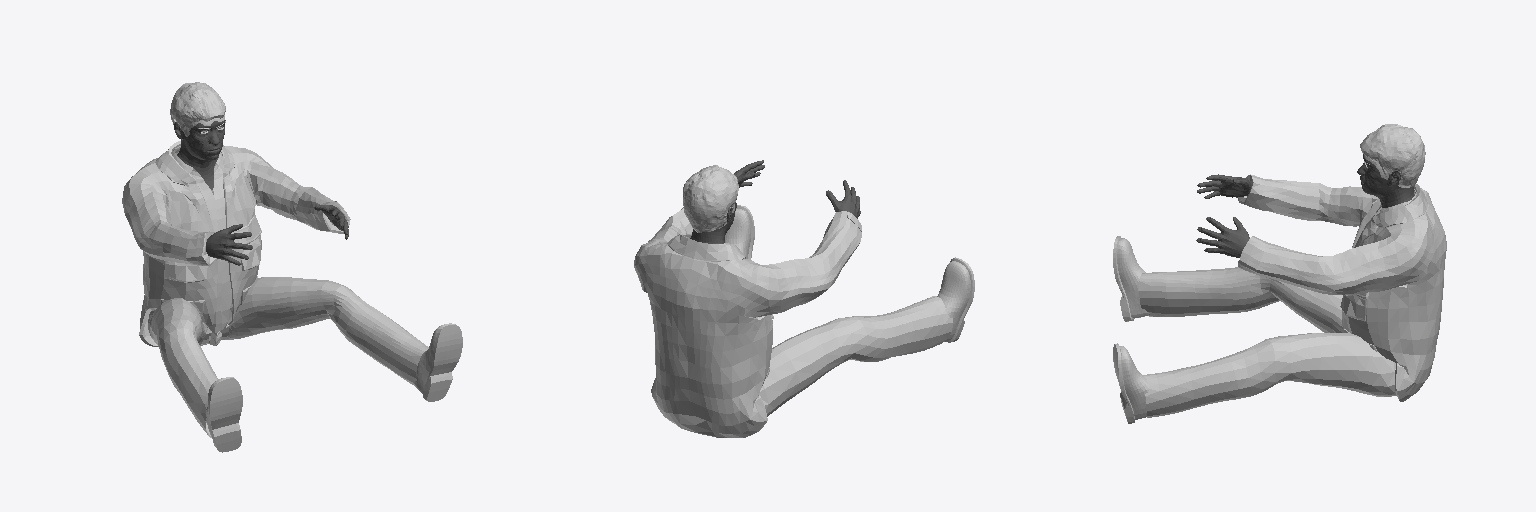
Rendered from clockmaker.obj.
3 views of the same model, side by side, from view 1: azimuth 30°, elevation 25°; view 2: azimuth 150°, elevation 25°; view 3: azimuth 270°, elevation 25° (orthographic).
Parts seen in each view (by area): view 1: male_casualsuit05Mesh_male_casualsuit05, shoes01Mesh_shoes01, theclockmaker_1Mesh_theclockmaker_1, short02Mesh_short02; view 2: male_casualsuit05Mesh_male_casualsuit05, shoes01Mesh_shoes01, short02Mesh_short02, theclockmaker_1Mesh_theclockmaker_1; view 3: male_casualsuit05Mesh_male_casualsuit05, theclockmaker_1Mesh_theclockmaker_1, shoes01Mesh_shoes01, short02Mesh_short02.
Part boxes in pixels (left/top/right/bottom): male_casualsuit05Mesh_male_casualsuit05: left=122, top=141, right=428, bottom=437; shoes01Mesh_shoes01: left=205, top=323, right=462, bottom=452; theclockmaker_1Mesh_theclockmaker_1: left=174, top=120, right=348, bottom=265; short02Mesh_short02: left=170, top=82, right=225, bottom=139; male_casualsuit05Mesh_male_casualsuit05: left=634, top=207, right=953, bottom=437; shoes01Mesh_shoes01: left=725, top=205, right=974, bottom=342; short02Mesh_short02: left=683, top=165, right=738, bottom=232; theclockmaker_1Mesh_theclockmaker_1: left=690, top=160, right=860, bottom=243; male_casualsuit05Mesh_male_casualsuit05: left=1139, top=174, right=1446, bottom=417; theclockmaker_1Mesh_theclockmaker_1: left=1196, top=154, right=1414, bottom=257; shoes01Mesh_shoes01: left=1113, top=236, right=1149, bottom=423; short02Mesh_short02: left=1360, top=124, right=1425, bottom=187.
Bounding box in the file's own units: 1.04 × 1.01 × 1.19.